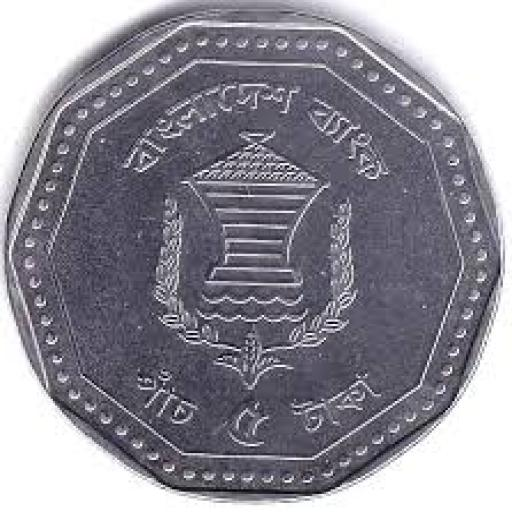5taka: (5, 9, 503, 498)
